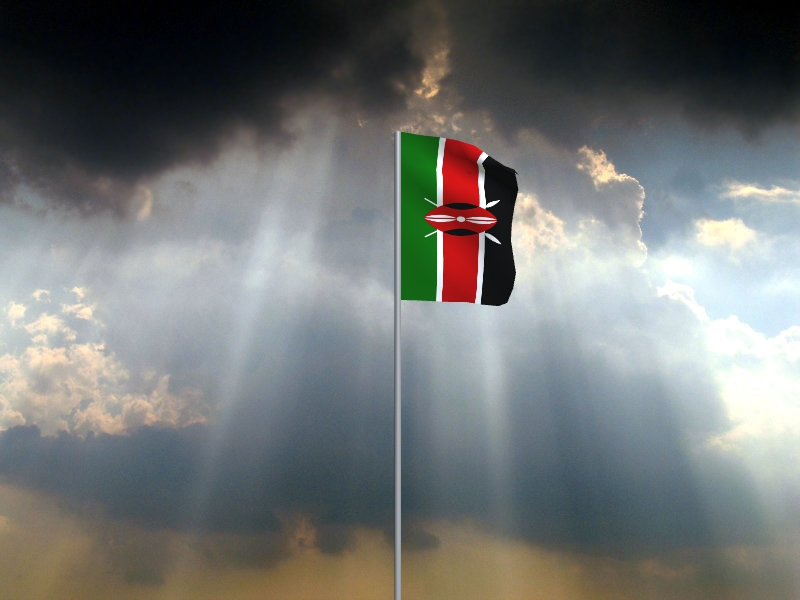ke: (402, 132, 520, 307)
